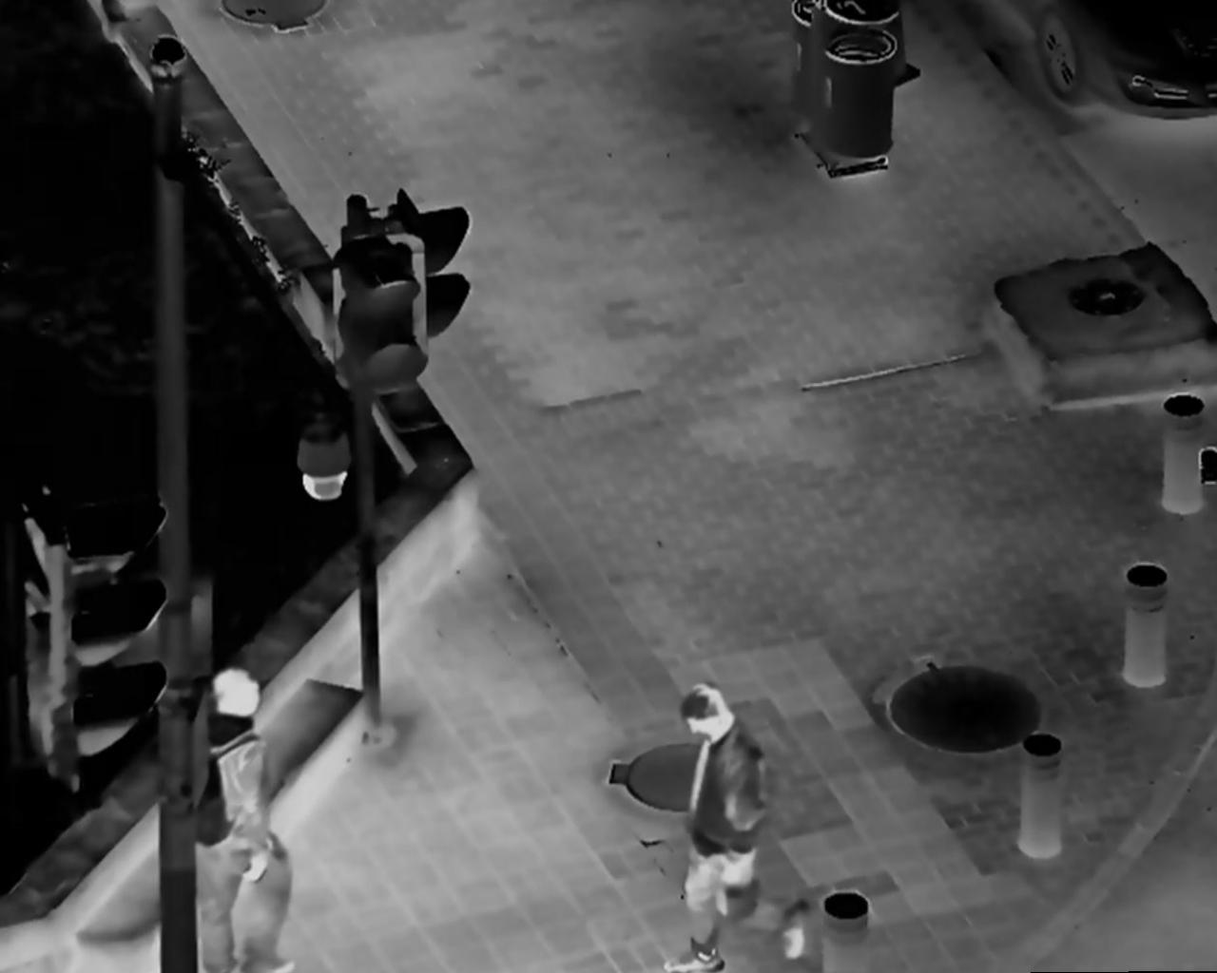person: (667, 678, 819, 973), (184, 667, 309, 973)
